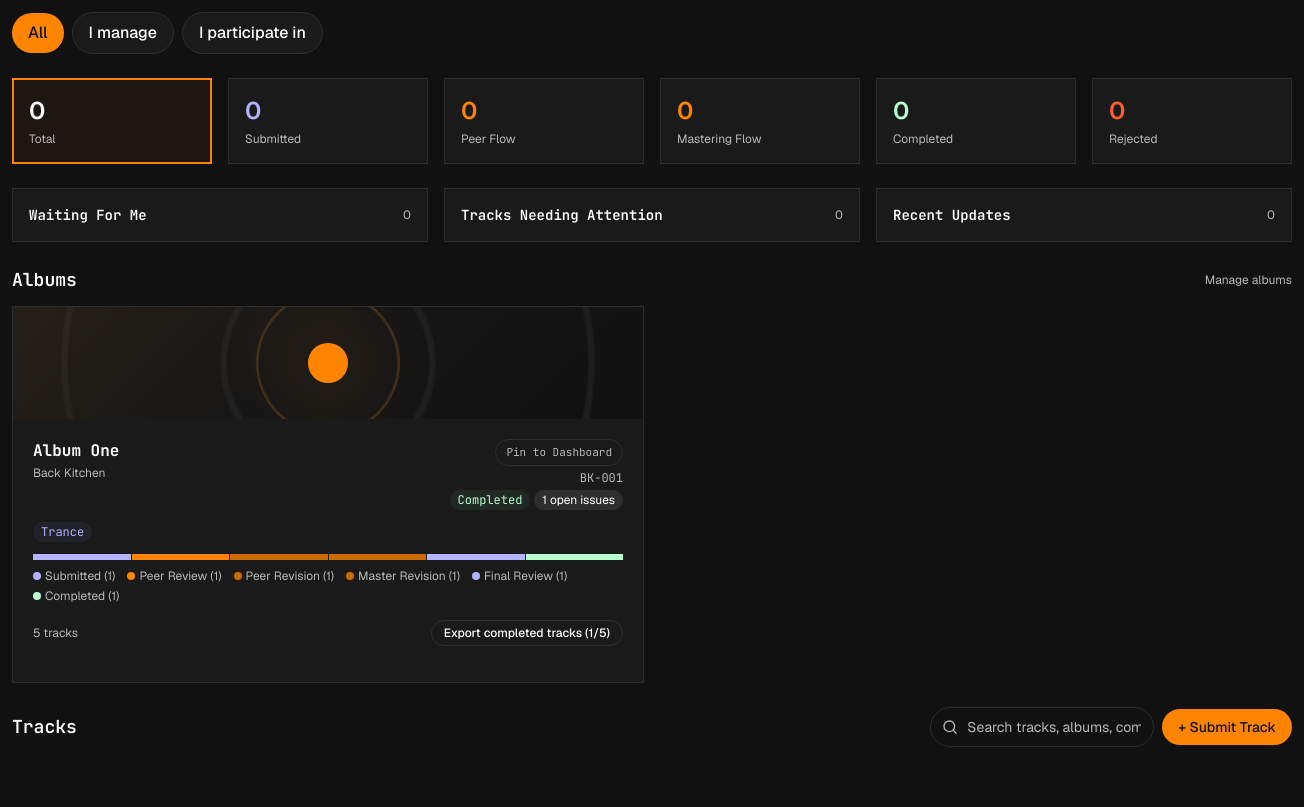
Test case: DashboardView › restores attention and deadline warnings after a completed album reopens
The width and height of the screenshot is (1304, 807).
Expected: the text "overdue" is not shown
Type "Album" into the field with placeholder "Search tracks, albums, composers…".
click(1042, 726); type("Album")  # box [930,706,1154,746]
Wait 300 ms
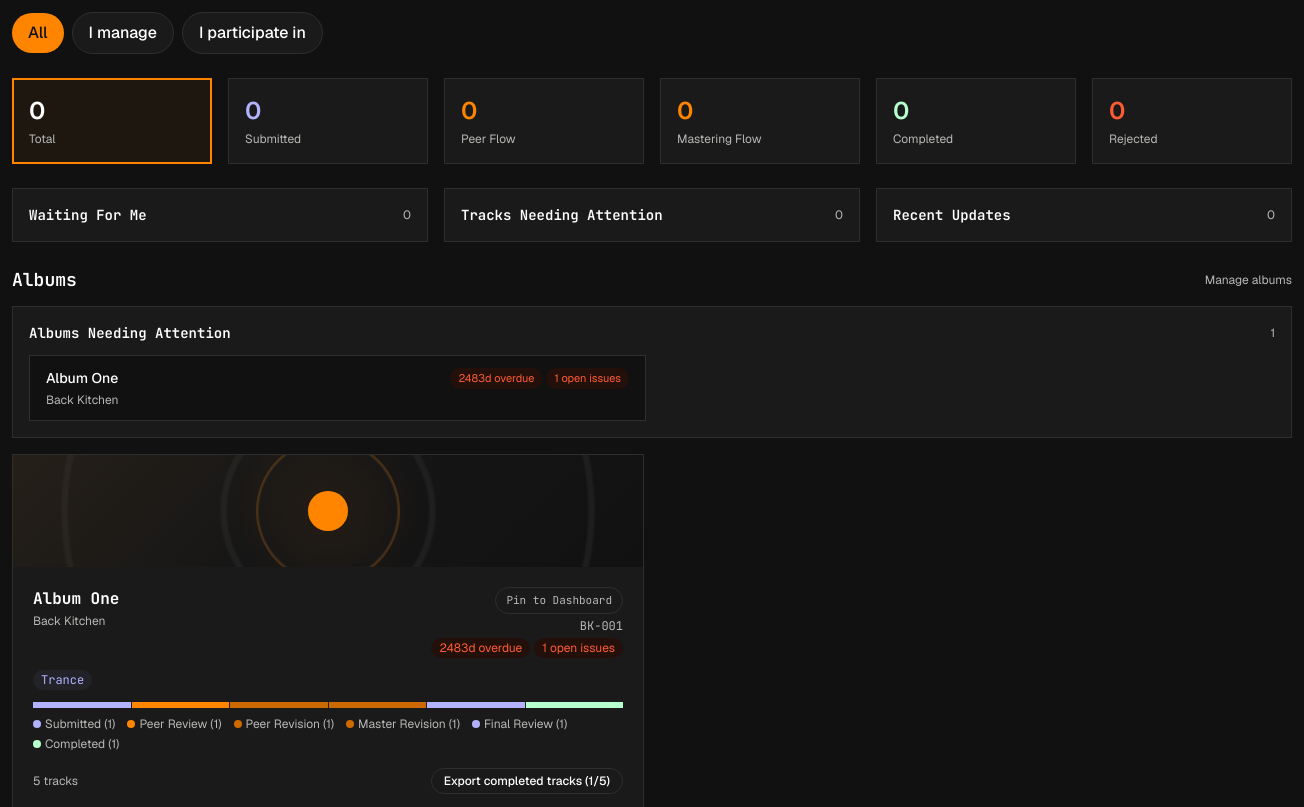
Result: the text "overdue" is shown at [458,371,534,385]
